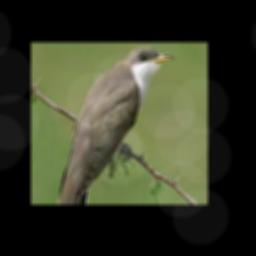Cuckoo: (56, 46, 175, 205)
